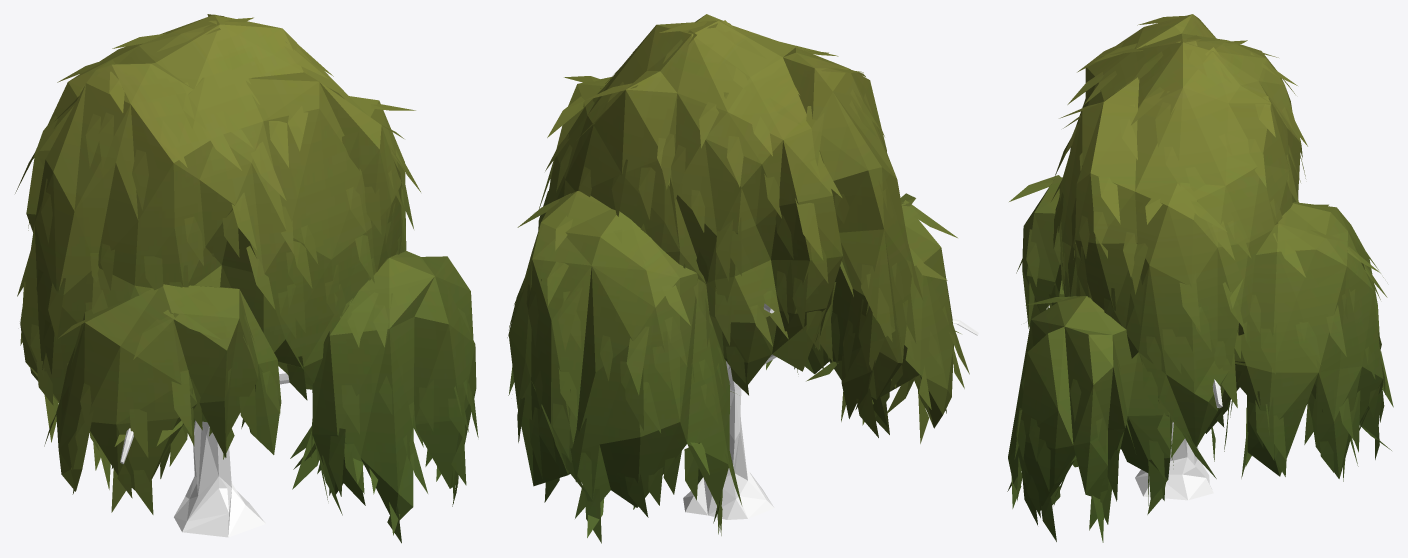
File: willow-poly.glb
3 views of the same model, side by side, from view 1: azimuth 30°, elevation 25°; view 2: azimuth 150°, elevation 25°; view 3: azimuth 270°, elevation 25° (orthographic). The views are drawn at different scales.
Parts seen in each view (by area): view 1: tree-willow-weeping-generic-mature-a.001; view 2: tree-willow-weeping-generic-mature-a.001; view 3: tree-willow-weeping-generic-mature-a.001.
Part boxes in pixels (x1=…): tree-willow-weeping-generic-mature-a.001: x1=15, y1=14, x2=478, y2=543; tree-willow-weeping-generic-mature-a.001: x1=507, y1=14, x2=978, y2=543; tree-willow-weeping-generic-mature-a.001: x1=1007, y1=14, x2=1393, y2=542.
Size of the model in its own units: 6.36 by 7.4 by 5.85.
Materials: 2 (1 with a texture image).
